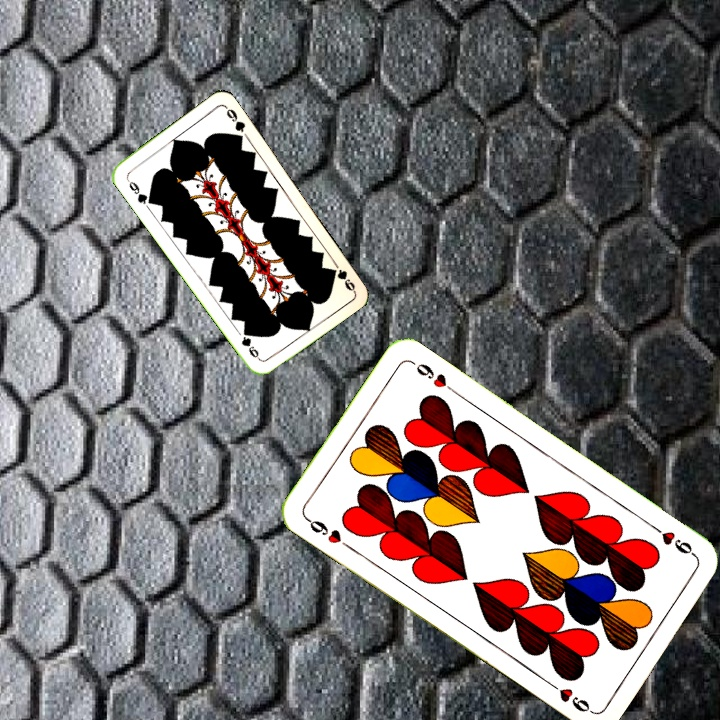G9: (122, 174, 155, 207), (330, 265, 358, 294)
H9: (301, 513, 354, 552), (647, 520, 698, 560)
